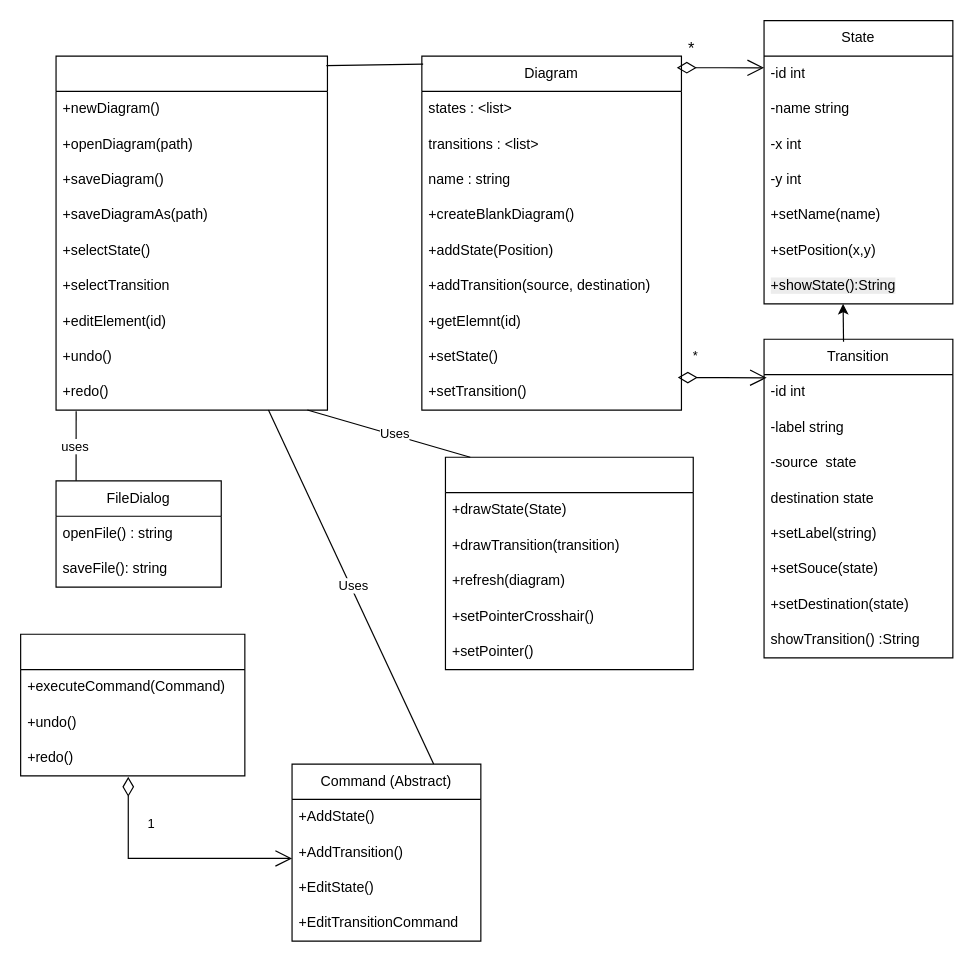
Image size: 973x962. Some labels were removed from this diagram. Each missing label, with the box of its shape:
DiagramEditor: (55, 55, 327, 410)
Draw Diagram: (444, 456, 693, 670)
HistoryManager: (19, 633, 245, 776)
